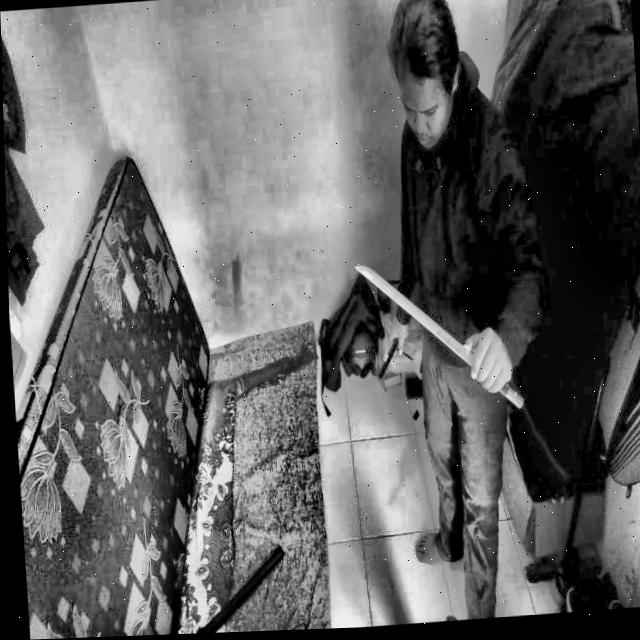pisau: (345, 260, 534, 420)
